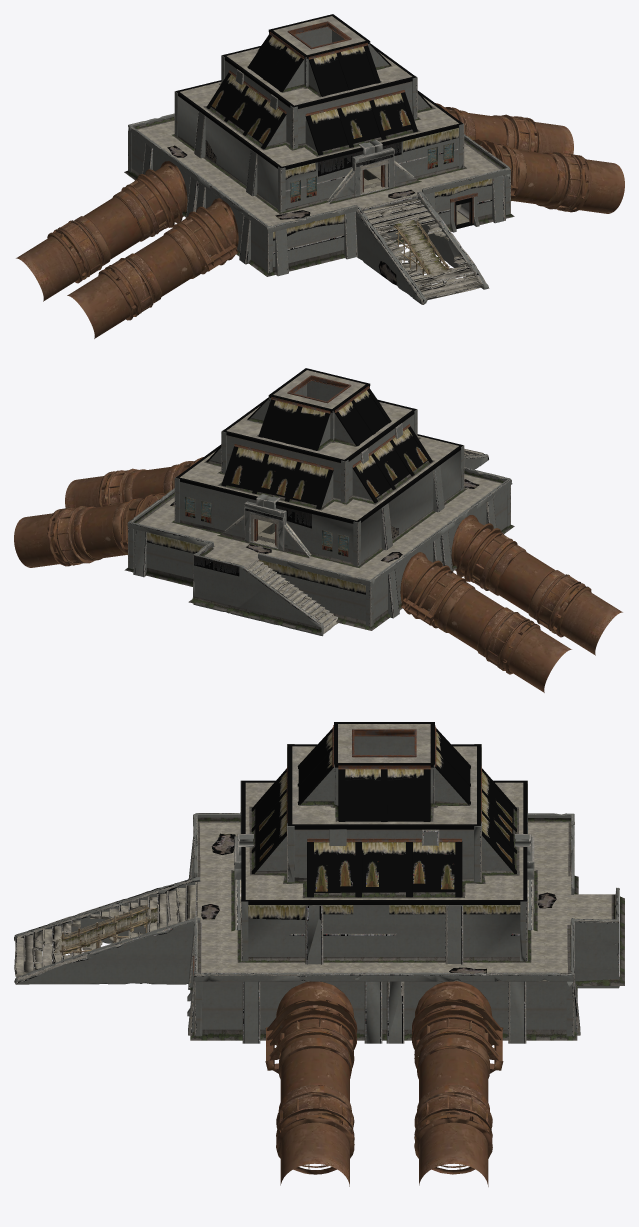
File: jungle_ziggurat_a.glb
3 renders of one model, top to bottom at view 1: azimuth 30°, elevation 25°; view 2: azimuth 150°, elevation 25°; view 3: azimuth 270°, elevation 25°, orthographic. The views are drawn at different scales.
Parts seen in each view (by area): view 1: ziggurat_shell_exterior_LOD0, ziggurat_shell_exterior_pipes_LOD0, ziggurat_shell_exterior_decals_LOD0, ziggurat_shell_main_doors_LOD0, ziggurat_shell_exterior_stairs_bamboo_LOD0, ziggurat_shell_interior_LOD0, ziggurat_shell_interior_maintenance_corridor_LOD0; view 2: ziggurat_shell_exterior_LOD0, ziggurat_shell_exterior_pipes_LOD0, ziggurat_shell_exterior_decals_LOD0, ziggurat_shell_main_doors_LOD0, ziggurat_shell_interior_LOD0; view 3: ziggurat_shell_exterior_LOD0, ziggurat_shell_exterior_pipes_LOD0, ziggurat_shell_exterior_decals_LOD0, ziggurat_shell_exterior_stairs_bamboo_LOD0, ziggurat_shell_interior_LOD0, ziggurat_shell_main_doors_LOD0.
Boxes of the visible parts, <box> form: ziggurat_shell_exterior_LOD0: <box>128,14,510,304</box>; ziggurat_shell_exterior_pipes_LOD0: <box>16,103,624,338</box>; ziggurat_shell_exterior_decals_LOD0: <box>124,30,514,304</box>; ziggurat_shell_main_doors_LOD0: <box>328,140,415,201</box>; ziggurat_shell_exterior_stairs_bamboo_LOD0: <box>393,220,451,280</box>; ziggurat_shell_interior_LOD0: <box>287,21,469,224</box>; ziggurat_shell_interior_maintenance_corridor_LOD0: <box>450,192,479,232</box>; ziggurat_shell_exterior_LOD0: <box>128,368,512,635</box>; ziggurat_shell_exterior_pipes_LOD0: <box>14,457,622,692</box>; ziggurat_shell_exterior_decals_LOD0: <box>124,384,514,634</box>; ziggurat_shell_main_doors_LOD0: <box>223,494,310,555</box>; ziggurat_shell_interior_LOD0: <box>258,375,351,542</box>; ziggurat_shell_exterior_LOD0: <box>14,722,619,1043</box>; ziggurat_shell_exterior_pipes_LOD0: <box>265,981,503,1186</box>; ziggurat_shell_exterior_decals_LOD0: <box>14,732,624,1043</box>; ziggurat_shell_exterior_stairs_bamboo_LOD0: <box>54,904,157,955</box>; ziggurat_shell_interior_LOD0: <box>352,729,416,757</box>; ziggurat_shell_main_doors_LOD0: <box>234,834,534,929</box>.
Bounding box in the file's own units: 55.3 × 21.46 × 39.59.
16 materials, 16 textured.
